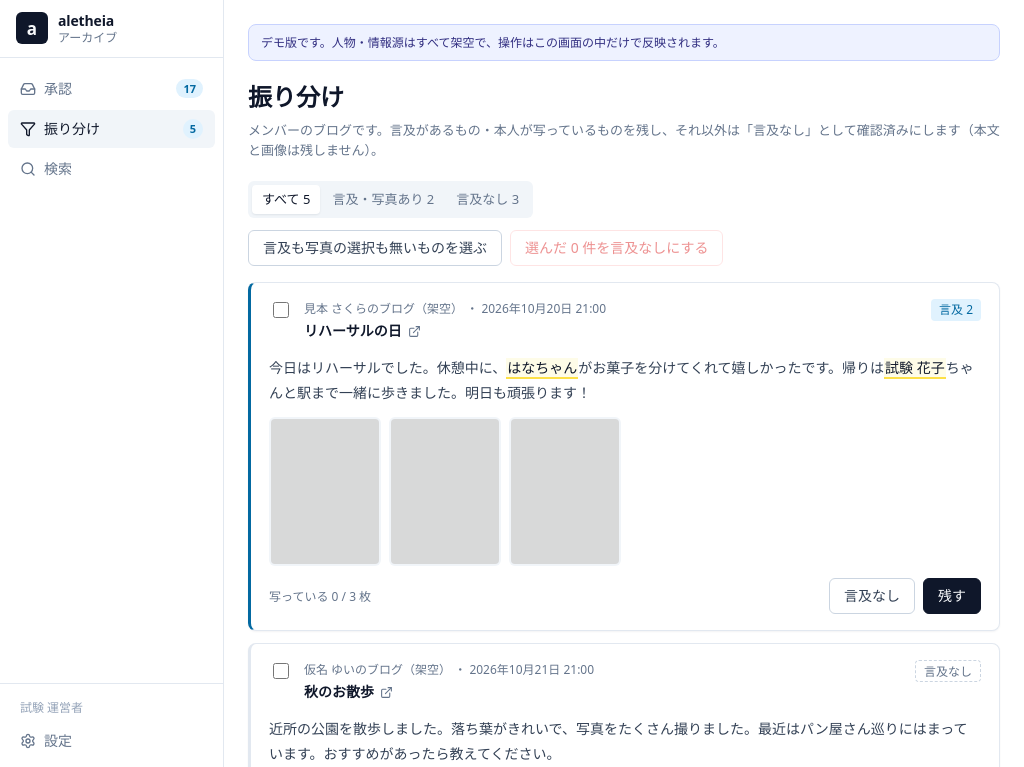
Test: 振り分けの画面 › 言及も写真の選択も無いものを選び、まとめて言及なしにできる
Expected: the text "リハーサルの日" is shown, [304, 321, 421, 340]
Click the button "言及も写真の選択も無いものを選ぶ" at (375, 248), box [248, 230, 502, 266]
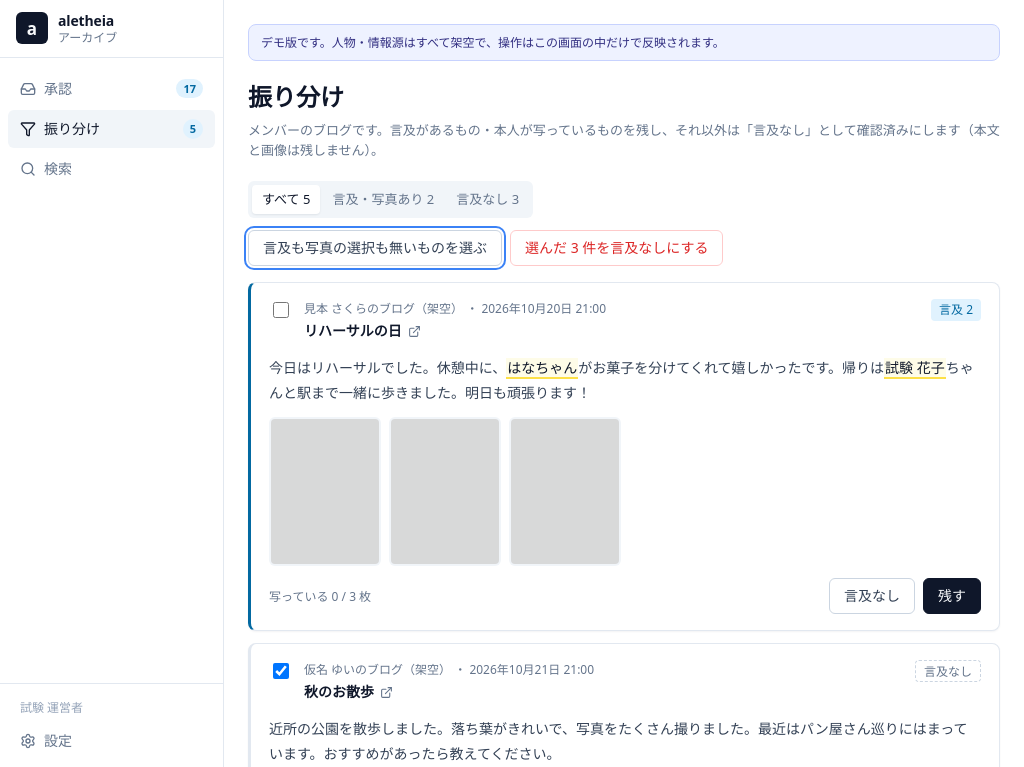
Click the button "選んだ 3 件を言及なしにする" at (617, 248), box [510, 230, 723, 266]
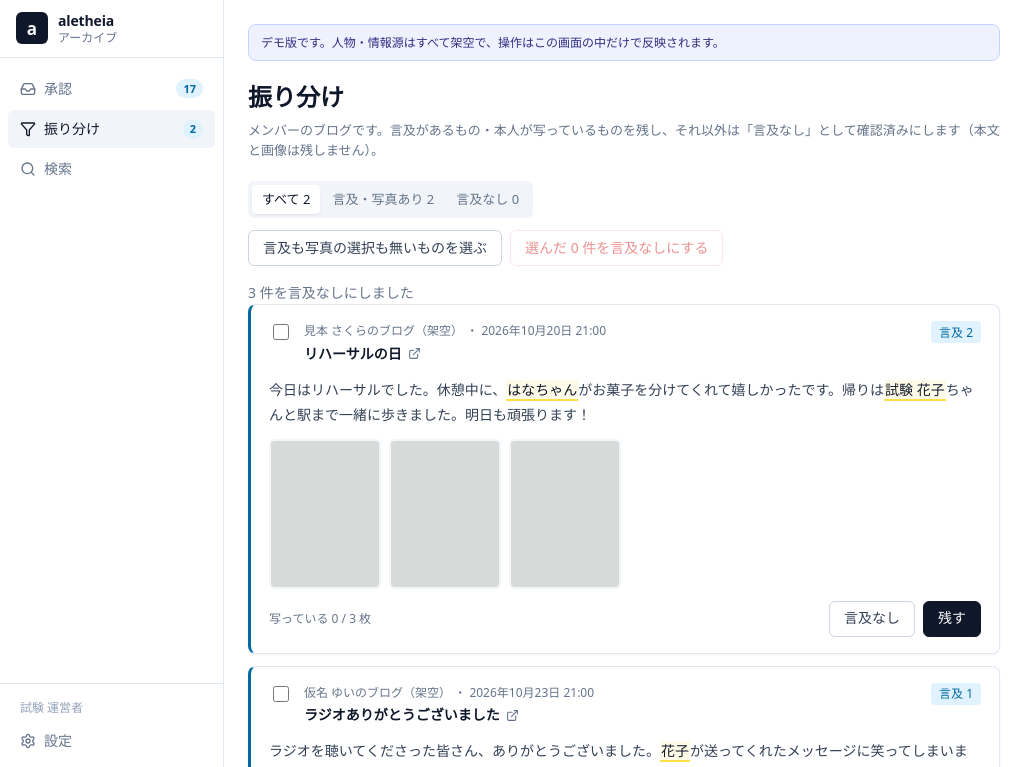
Expected: the text "3 件を言及なしにしました" is shown, [248, 283, 414, 302]
Expected: the tab "言及なし 0" is shown, [446, 185, 529, 214]
